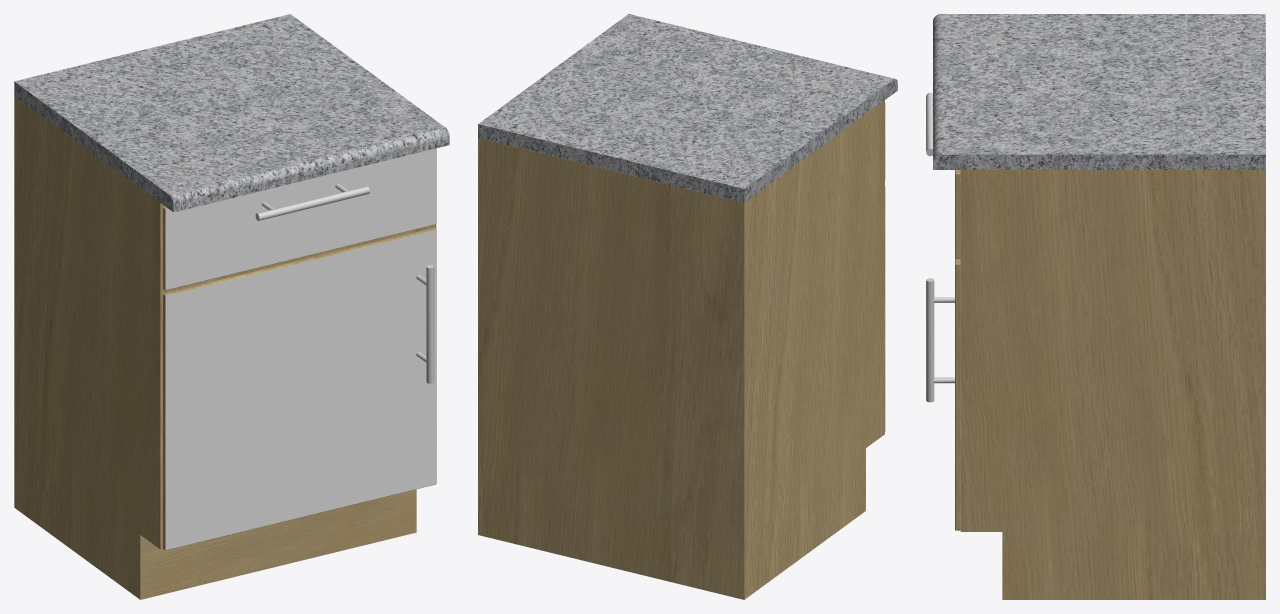
The model's file is sh_blend_swap_cc_0_lowercabinet.glb.
3 renders of one model, left to right at view 1: azimuth 30°, elevation 25°; view 2: azimuth 150°, elevation 25°; view 3: azimuth 270°, elevation 25°, orthographic. The views are drawn at different scales.
Bounding box in the file's own units: 0.6 × 0.885 × 0.612.
Materials: 7 (5 with a texture image).
